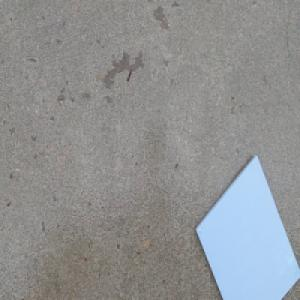PaintChip: (192, 152, 297, 300)
